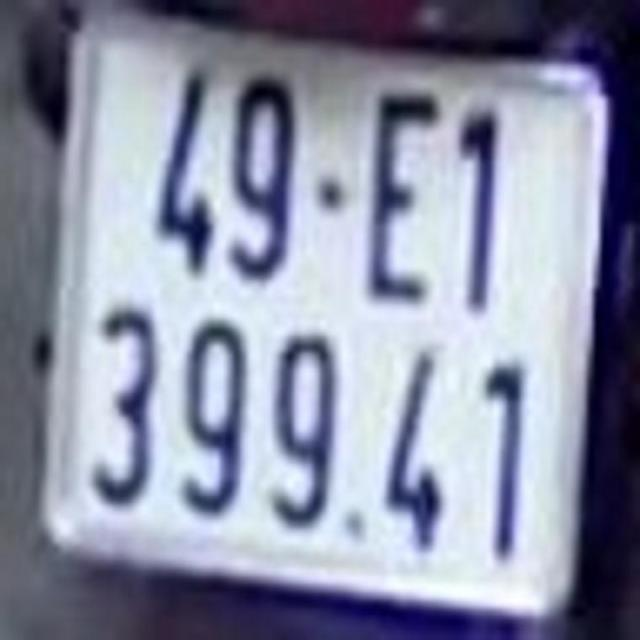1: (478, 352, 533, 560), (454, 101, 502, 316)
3: (91, 304, 155, 506)
4: (154, 60, 218, 287), (381, 342, 447, 548)
9: (228, 68, 294, 284), (181, 308, 246, 524), (271, 330, 337, 528)
E: (367, 87, 443, 307)
